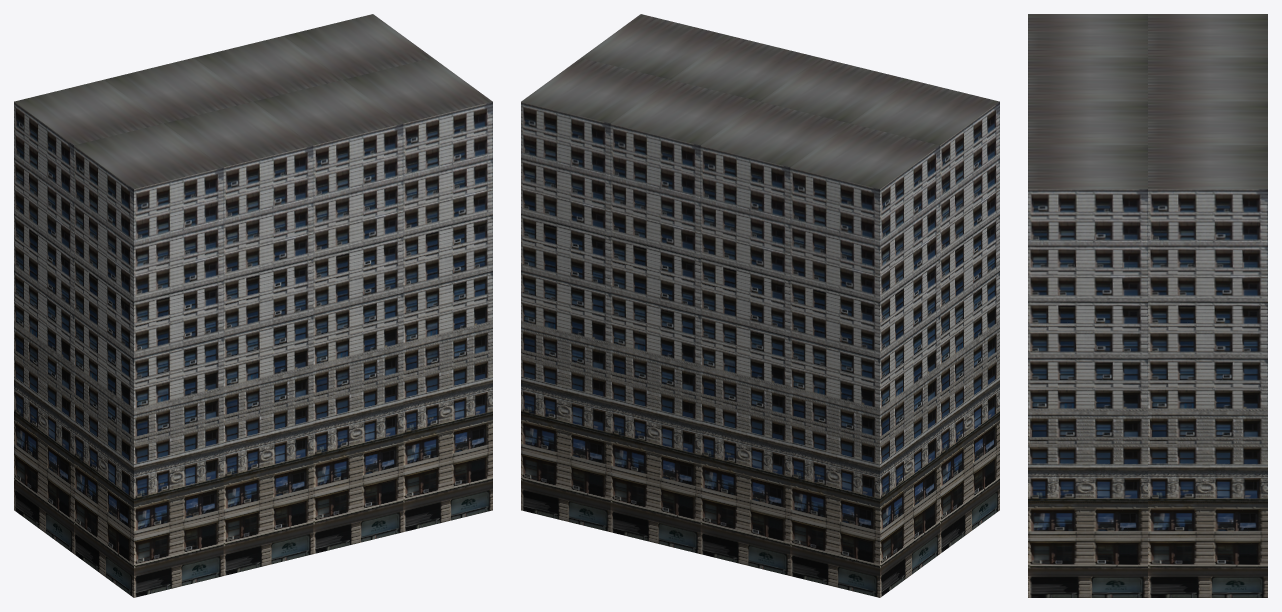
File: House 3.fbx
3 renders of one model, left to right at view 1: azimuth 30°, elevation 25°; view 2: azimuth 150°, elevation 25°; view 3: azimuth 270°, elevation 25°, orthographic.
Visible parts, largest first — view 1: b2; view 2: b2; view 3: b2.
Part boxes in pixels (x1=…): b2: x1=14, y1=14, x2=492, y2=597; b2: x1=521, y1=14, x2=999, y2=597; b2: x1=1028, y1=14, x2=1267, y2=597.
Bounding box in the file's own units: 100 × 109 × 58.
Materials: 1 (1 with a texture image).
